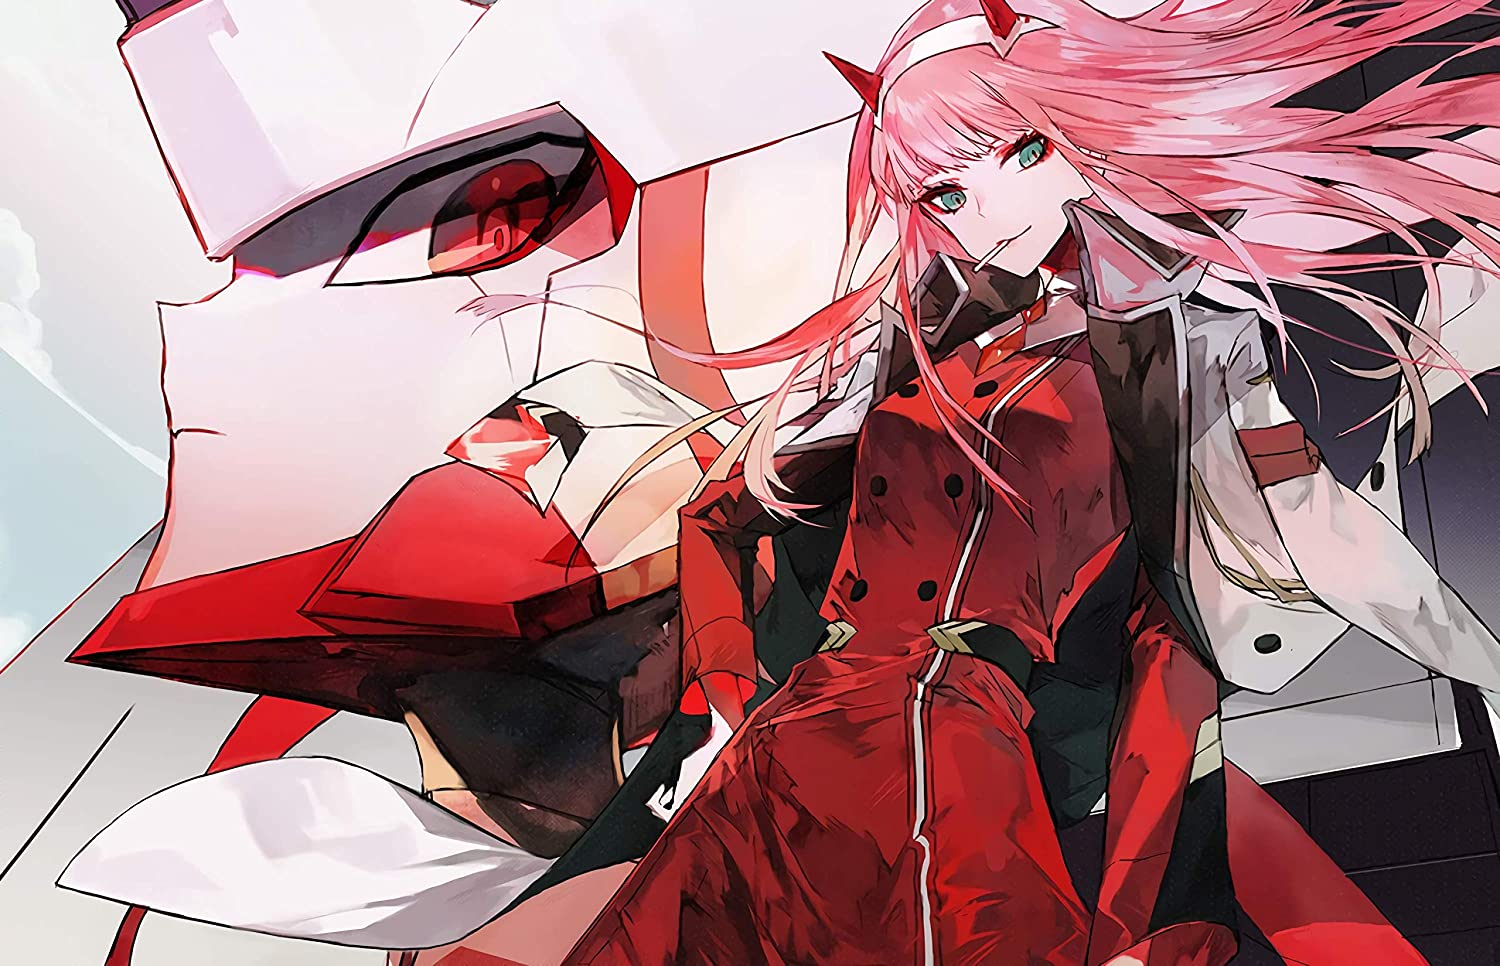zeroTwo: (832, 1, 1134, 282)
